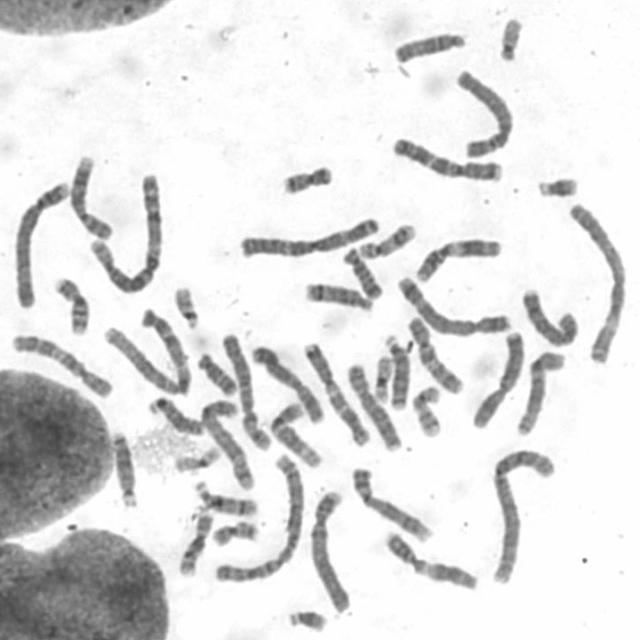A1: (86, 168, 167, 295), (100, 306, 194, 398)
A2: (209, 448, 307, 586), (485, 442, 559, 586)
A3: (564, 196, 630, 365), (233, 211, 382, 261)
B4: (8, 175, 72, 309), (307, 483, 354, 614)
B5: (393, 272, 513, 336), (196, 395, 256, 492)
C10: (6, 328, 118, 401), (404, 312, 467, 395)
C11: (380, 526, 482, 592), (410, 232, 505, 286)
C12: (512, 347, 568, 437), (266, 396, 324, 469)
C6: (218, 327, 275, 454), (448, 73, 514, 157)
C7: (299, 335, 373, 449), (388, 133, 506, 183)
C8: (342, 359, 404, 454), (518, 284, 580, 349)
C9: (347, 462, 433, 544), (66, 151, 115, 242)
D13: (380, 330, 413, 413), (106, 425, 138, 510)
D14: (189, 476, 258, 518), (300, 277, 374, 314)
D15: (391, 26, 470, 64), (148, 394, 206, 436)
E16: (174, 506, 217, 578), (48, 271, 92, 336)
E17: (354, 218, 419, 260), (408, 381, 444, 439)
E18: (338, 243, 385, 301), (194, 348, 240, 398)
F19: (172, 442, 224, 474), (370, 351, 393, 404)
F20: (277, 160, 335, 196), (209, 516, 261, 548)
G21: (533, 170, 582, 199), (284, 604, 329, 634)
G22: (495, 12, 526, 63), (169, 282, 201, 330)
X: (247, 339, 326, 426), (468, 326, 526, 432)
